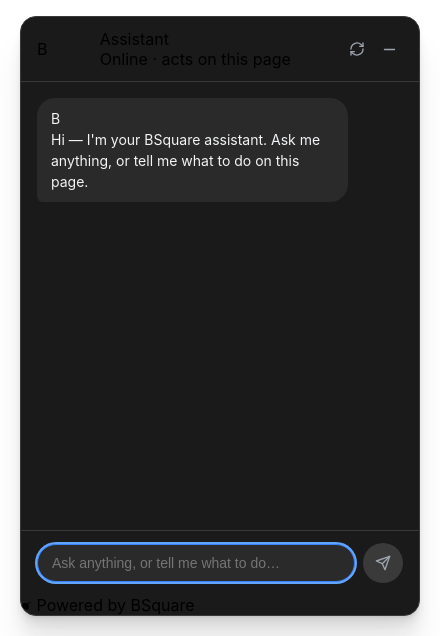
ChatInterface › disables send until input has text, then sends and clears the input
Expected: the button titled "Send Message" is disabled, [363,543,403,583]
Step 1. Type "hello there" into the field with placeholder "Ask anything, or tell me what to do…" → (196, 563), box [37,544,355,582]
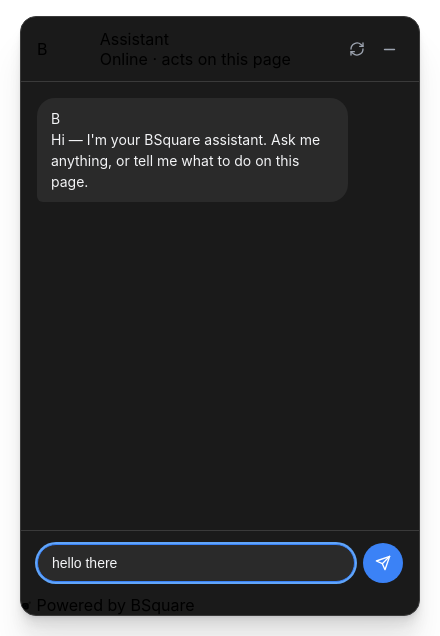
Now the button titled "Send Message" is enabled
Step 2. Click the button titled "Send Message" → (383, 563), box [363,543,403,583]
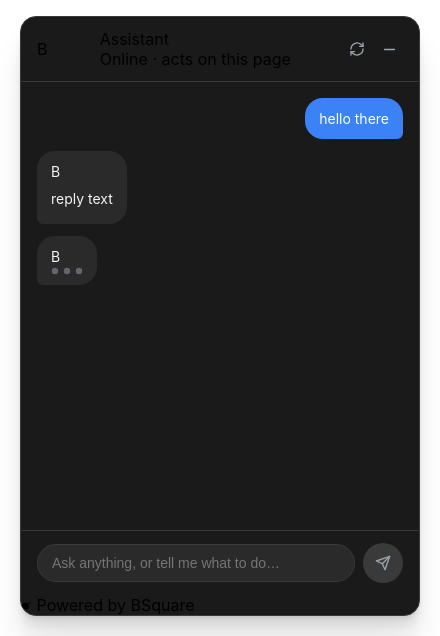
Now the text "reply text" is shown, box [51,188,113,209]
Now the field with placeholder "Ask anything, or tell me what to do…" is empty, box [37,544,355,582]
